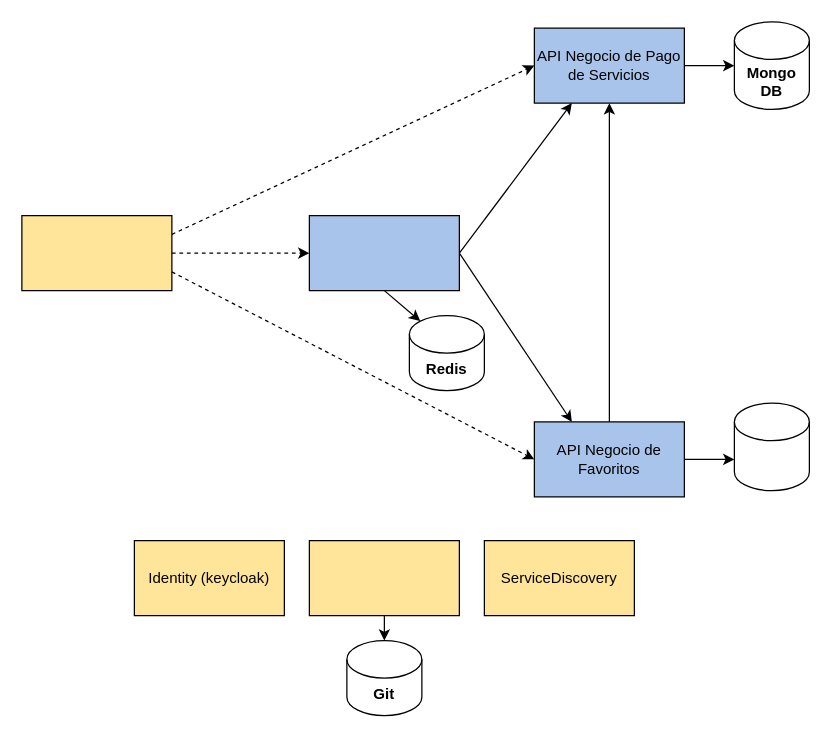
The diagram is 831 pixels wide and 738 high, and some of its shapes have lost their labels. The shapes that lost their labels are listed below. From the top down, each one's centre as x and y in pixels, then its label:
pixel 96 252: Spring Cloud Gateway
pixel 383 252: API de Experiencia
pixel 771 446: Azure SQL DB
pixel 383 577: ConfigServer
